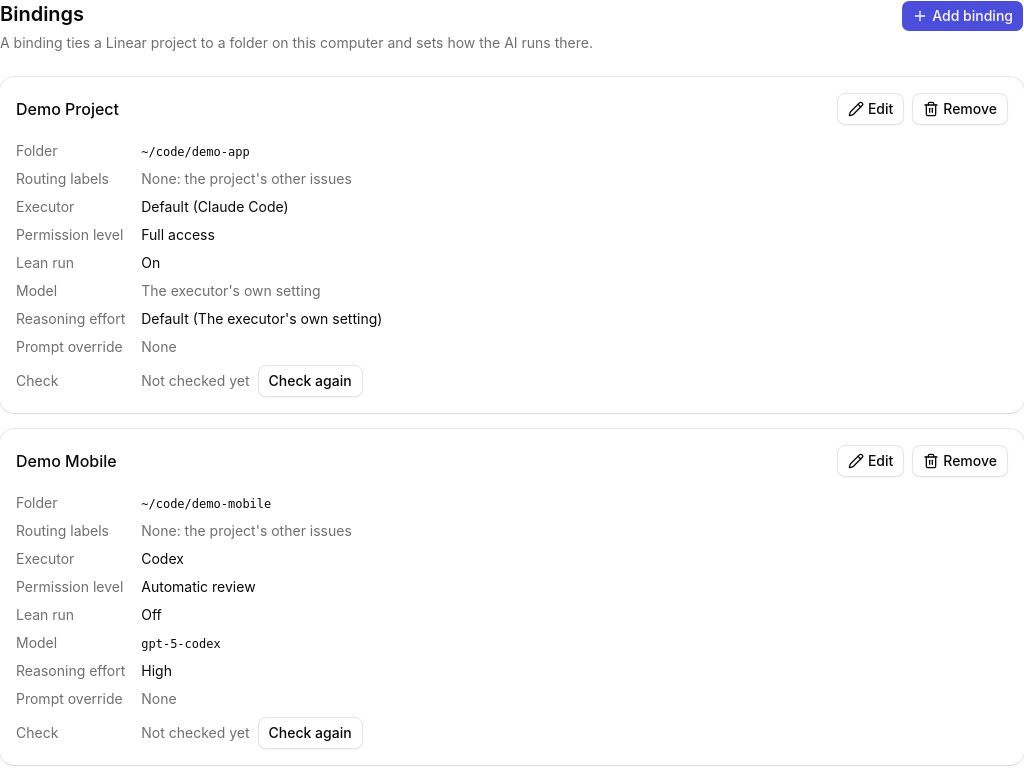
cancelling the dialog adds nothing
Expected: the element "Demo Project" is shown, [0,77,1023,413]
Click the button "Add binding".
click(963, 16)  # box [901,0,1023,32]
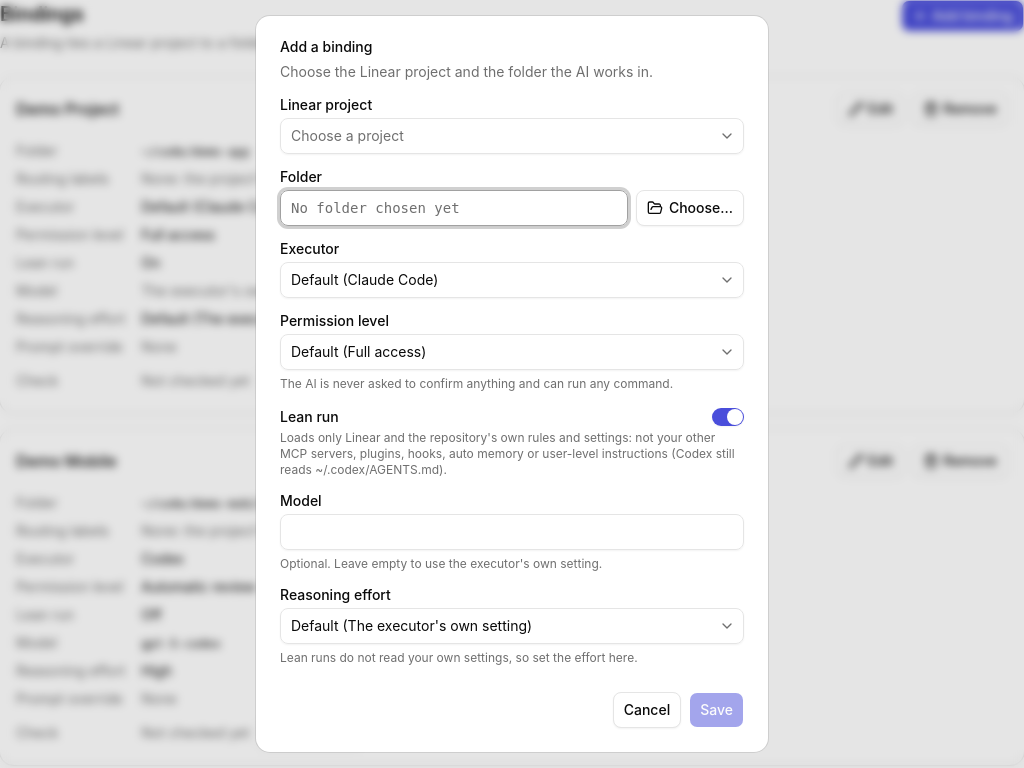
Click the button "Cancel".
click(647, 710)  # box [613,692,681,728]
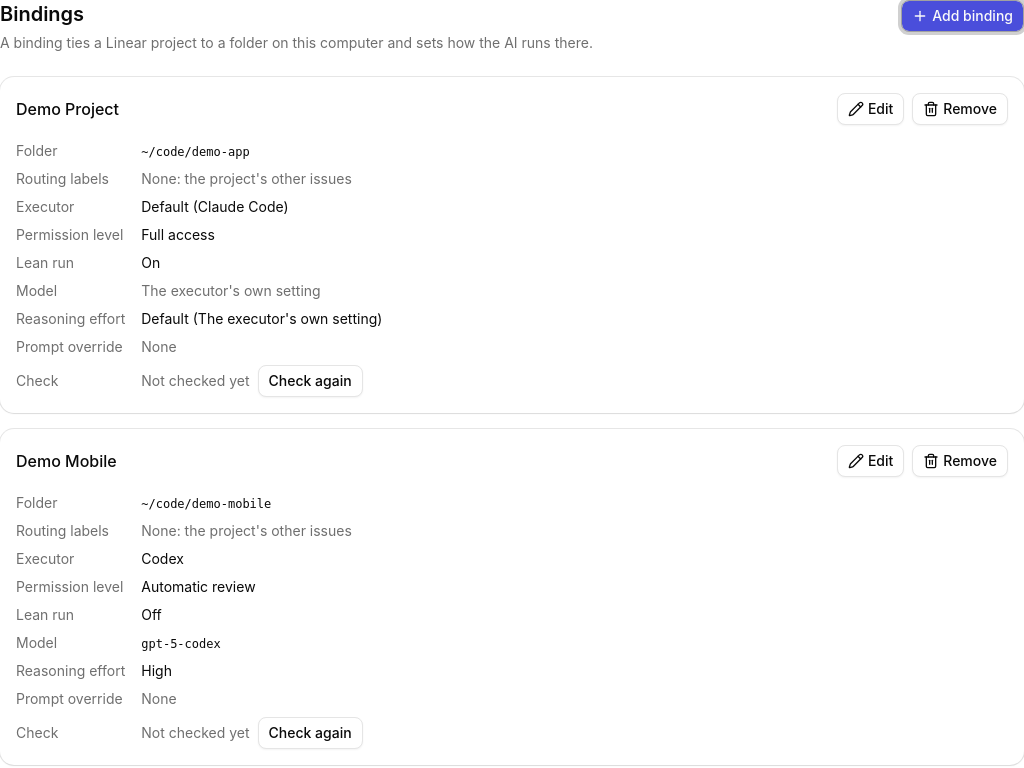
Expected: the dialog is gone
